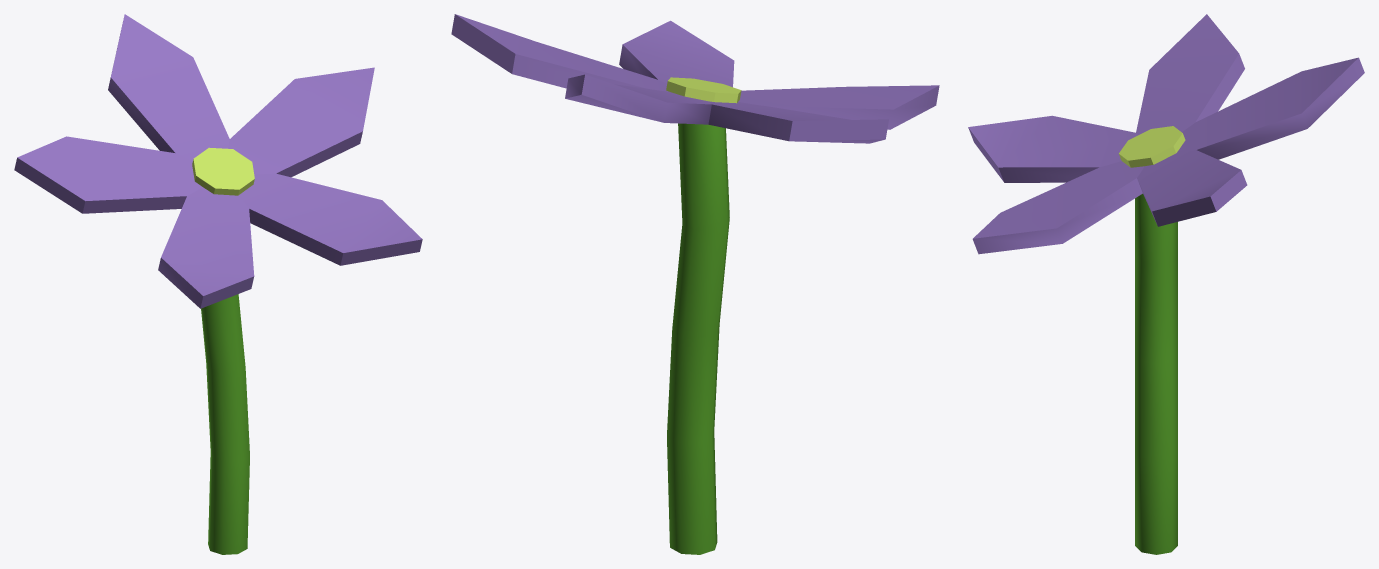
File: Flower_Purple_1.fbx
3 renders of one model, left to right at view 1: azimuth 30°, elevation 25°; view 2: azimuth 150°, elevation 25°; view 3: azimuth 270°, elevation 25°, orthographic. The views are drawn at different scales.
Visible parts, largest first — view 1: Cube.101, Cylinder.630, Cylinder.629; view 2: Cube.101, Cylinder.630, Cylinder.629; view 3: Cube.101, Cylinder.630, Cylinder.629.
Boxes of the visible parts, bbox=[...] form: Cube.101: bbox=[14, 14, 422, 308]; Cylinder.630: bbox=[201, 294, 249, 554]; Cylinder.629: bbox=[192, 147, 254, 195]; Cube.101: bbox=[451, 14, 939, 143]; Cylinder.630: bbox=[667, 123, 729, 554]; Cylinder.629: bbox=[666, 77, 741, 103]; Cube.101: bbox=[968, 14, 1364, 254]; Cylinder.630: bbox=[1135, 193, 1177, 554]; Cylinder.629: bbox=[1118, 126, 1185, 167].
Size of the model in its own units: 71.56 by 88.17 by 65.36.
